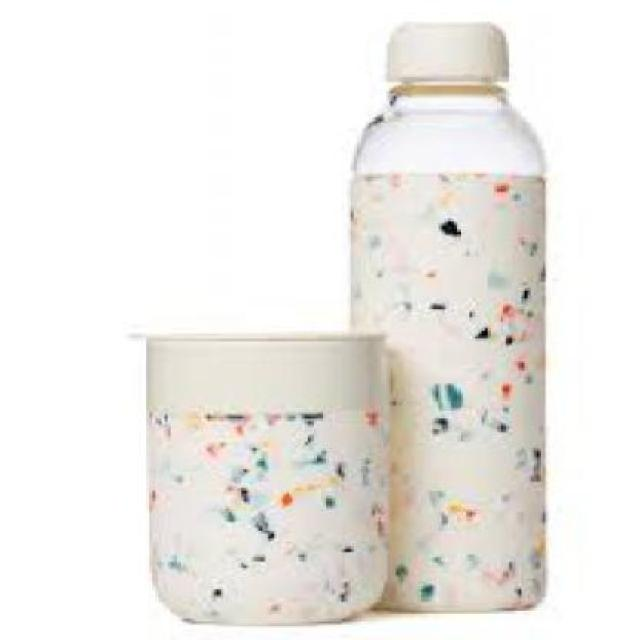Drinking: (317, 2, 555, 620)
